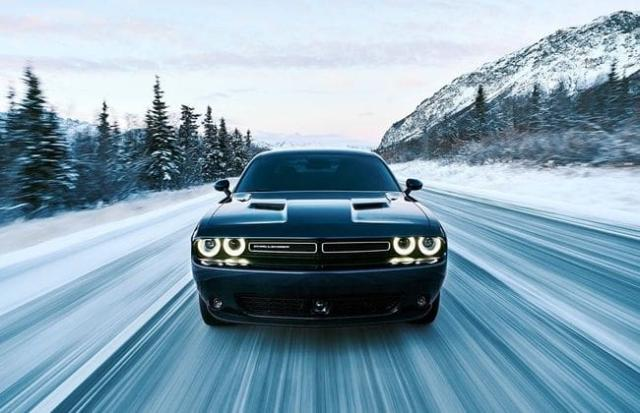dodge: (190, 147, 448, 330)
